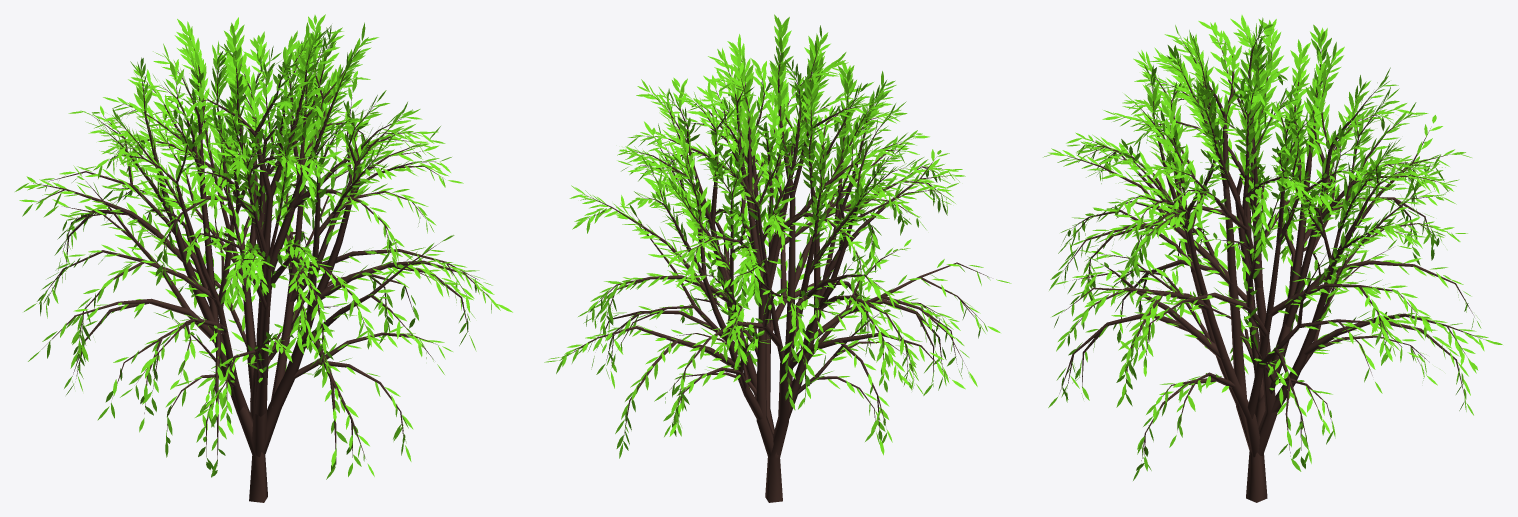
The model's file is Tree1.fbx.
3 renders of one model, left to right at view 1: azimuth 30°, elevation 25°; view 2: azimuth 150°, elevation 25°; view 3: azimuth 270°, elevation 25°, orthographic. The views are drawn at different scales.
Visible parts, largest first — view 1: leaves, tree; view 2: leaves, tree; view 3: leaves, tree.
Part boxes in pixels (x1=…): leaves: x1=15, y1=14, x2=512, y2=479; tree: x1=33, y1=28, x2=488, y2=502; leaves: x1=544, y1=14, x2=1011, y2=458; tree: x1=567, y1=42, x2=989, y2=502; leaves: x1=1043, y1=15, x2=1502, y2=480; tree: x1=1059, y1=33, x2=1487, y2=502.
Bounding box in the file's own units: 568 × 666 × 584.
